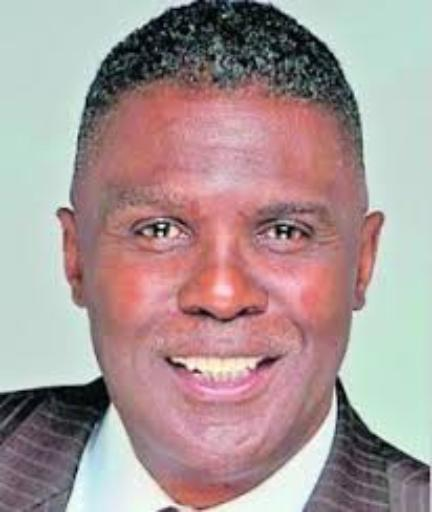left_eye: (258, 221, 314, 250)
left_lip_corner: (264, 347, 291, 369)
right_eye: (128, 218, 195, 249)
right_lip_corner: (157, 349, 190, 379)
